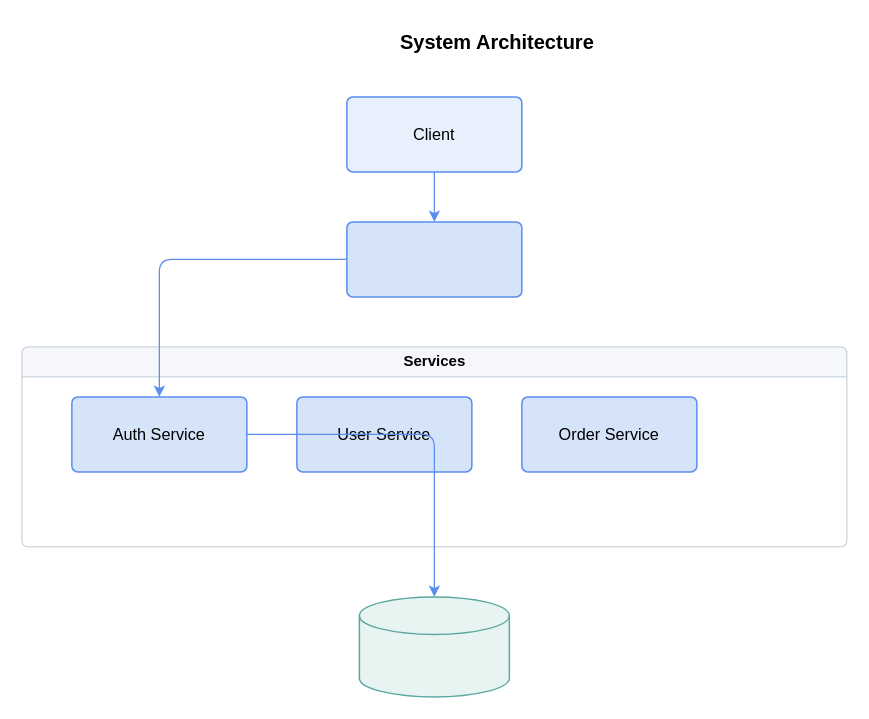
This 869x719 diagram has some shape labels left out. Each missing label, with the box of its shape:
API Gateway: (346, 220, 522, 297)
Database: (358, 596, 509, 697)
